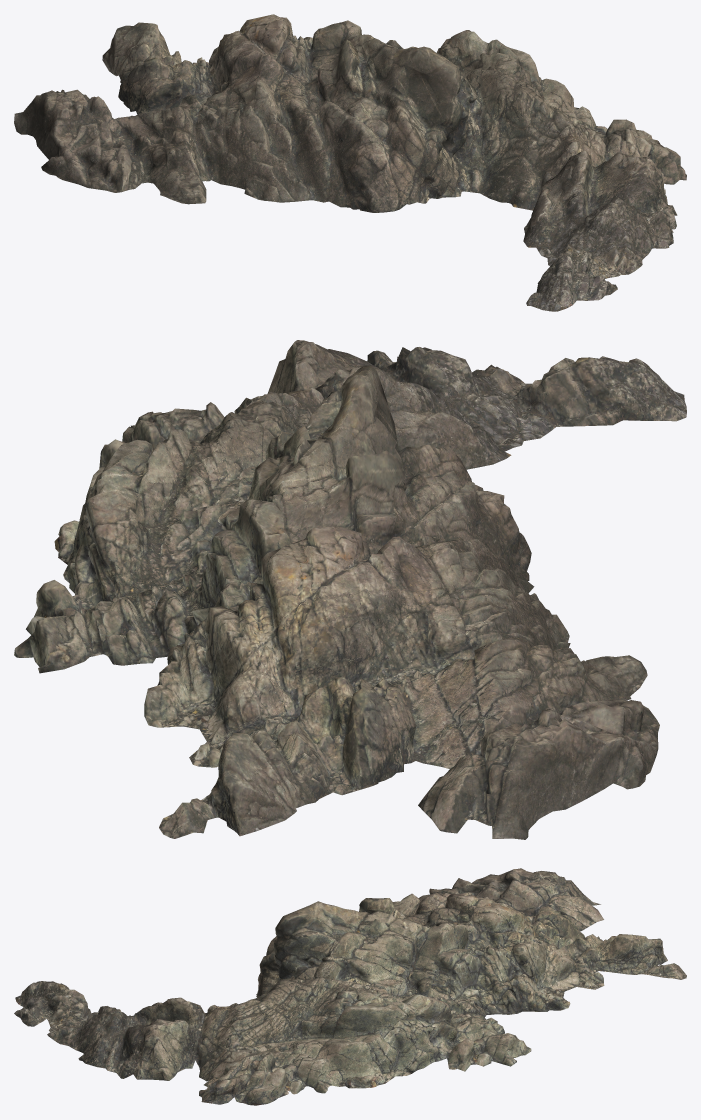
File: SM_GroundRevealRock.fbx
3 renders of one model, top to bottom at view 1: azimuth 30°, elevation 25°; view 2: azimuth 150°, elevation 25°; view 3: azimuth 270°, elevation 25°, orthographic. The views are drawn at different scales.
Visible parts, largest first — view 1: SM_GroundRevealRock_LOD0; view 2: SM_GroundRevealRock_LOD0; view 3: SM_GroundRevealRock_LOD0.
Boxes of the visible parts, x1,y1,x2,y2 form: SM_GroundRevealRock_LOD0: (14, 14, 686, 311); SM_GroundRevealRock_LOD0: (14, 340, 686, 839); SM_GroundRevealRock_LOD0: (14, 868, 686, 1105).
Bounding box in the file's own units: 489 × 669 × 130.
1 material, 1 textured.
